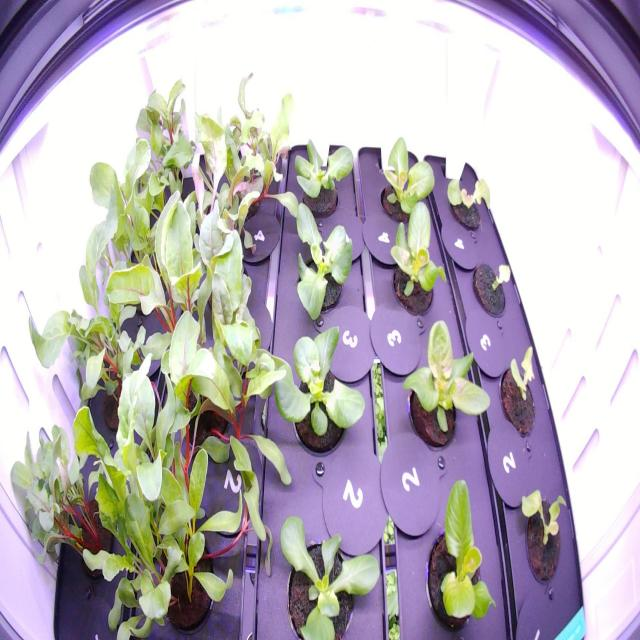young: (260, 302, 372, 468), (408, 452, 504, 639), (266, 499, 390, 636), (396, 294, 496, 460), (277, 194, 362, 326), (380, 194, 452, 322), (371, 124, 442, 230), (285, 127, 357, 229), (518, 482, 570, 595), (497, 342, 545, 446), (440, 163, 495, 239), (469, 249, 517, 325)
